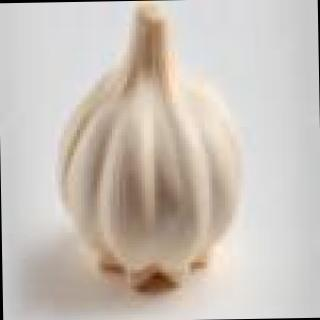Bawang Putih: (39, 1, 271, 294)
